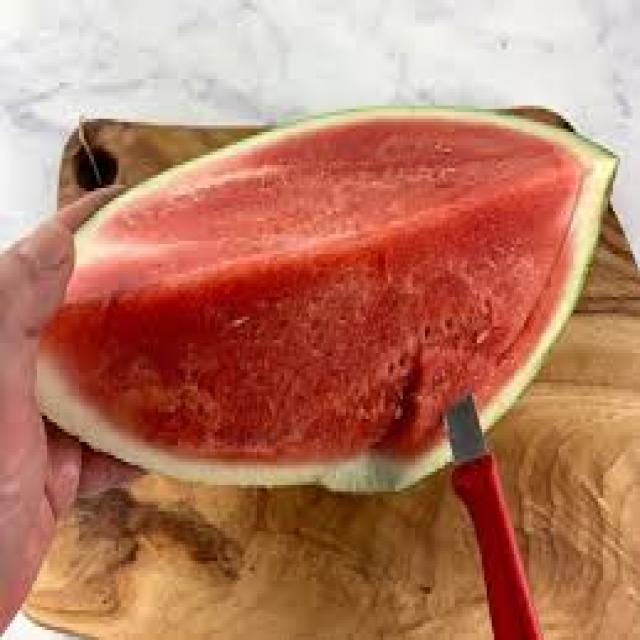watermelon: (32, 102, 618, 495)
